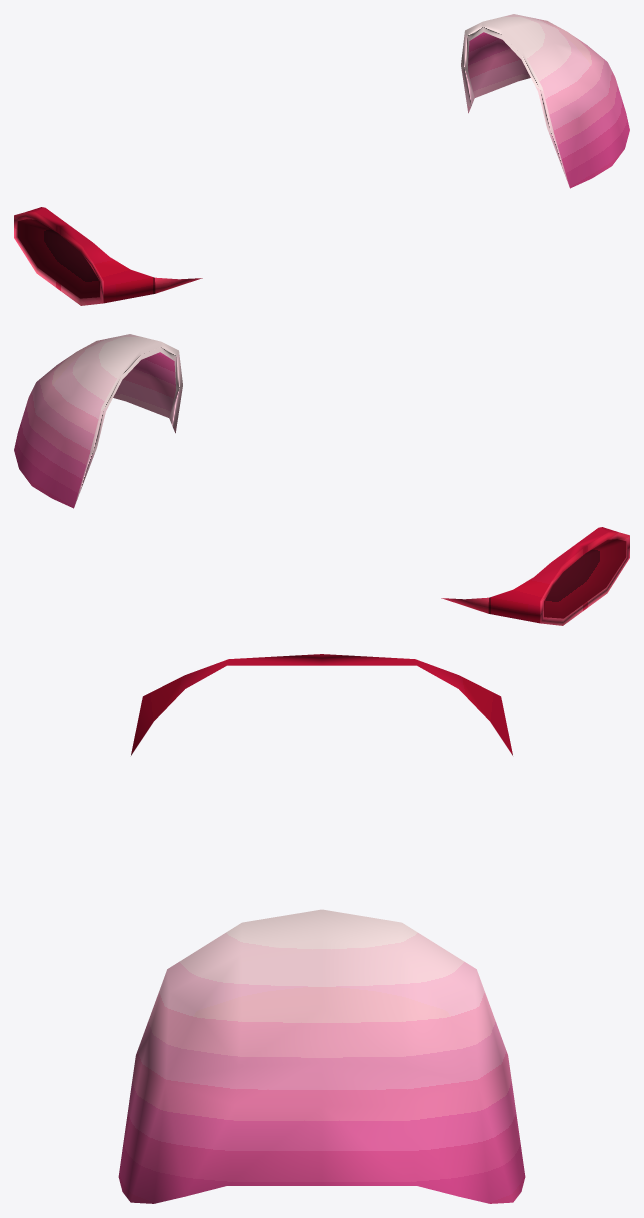
File: MaimiBoard_Power1.glb
3 views of the same model, one above another, from view 1: azimuth 30°, elevation 25°; view 2: azimuth 150°, elevation 25°; view 3: azimuth 270°, elevation 25° (orthographic). The views are drawn at different scales.
Visible parts, largest first — view 1: MaimiBoard_Power1; view 2: MaimiBoard_Power1; view 3: MaimiBoard_Power1.
Boxes of the visible parts, x1,y1,x2,y2 form: MaimiBoard_Power1: (14,14,629,305); MaimiBoard_Power1: (14,334,629,625); MaimiBoard_Power1: (118,654,525,1203).
Bounding box in the file's own units: 8.52 × 2.27 × 2.76.
1 material, 1 textured.
